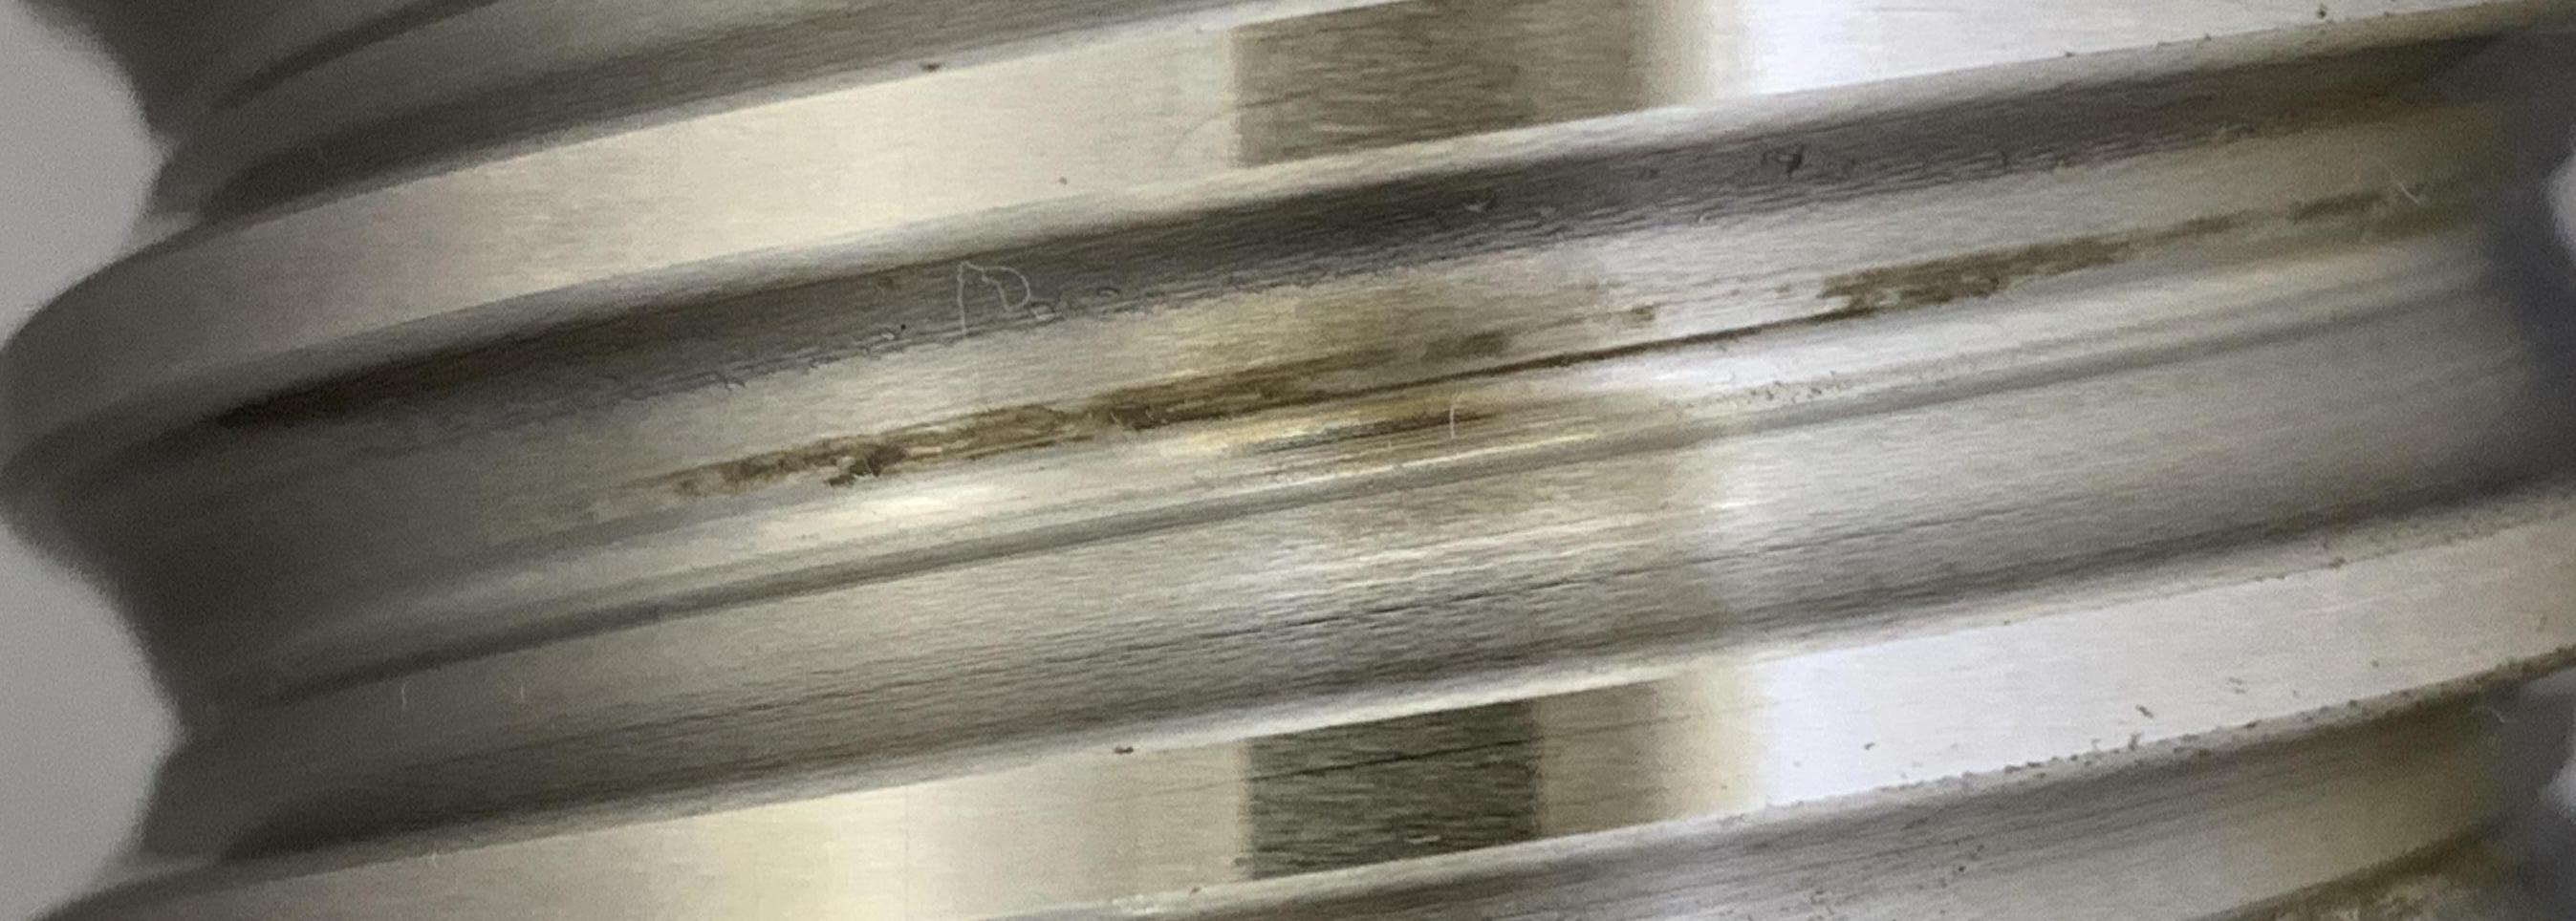pitting: (1459, 195, 1497, 217), (1771, 153, 1802, 177)
